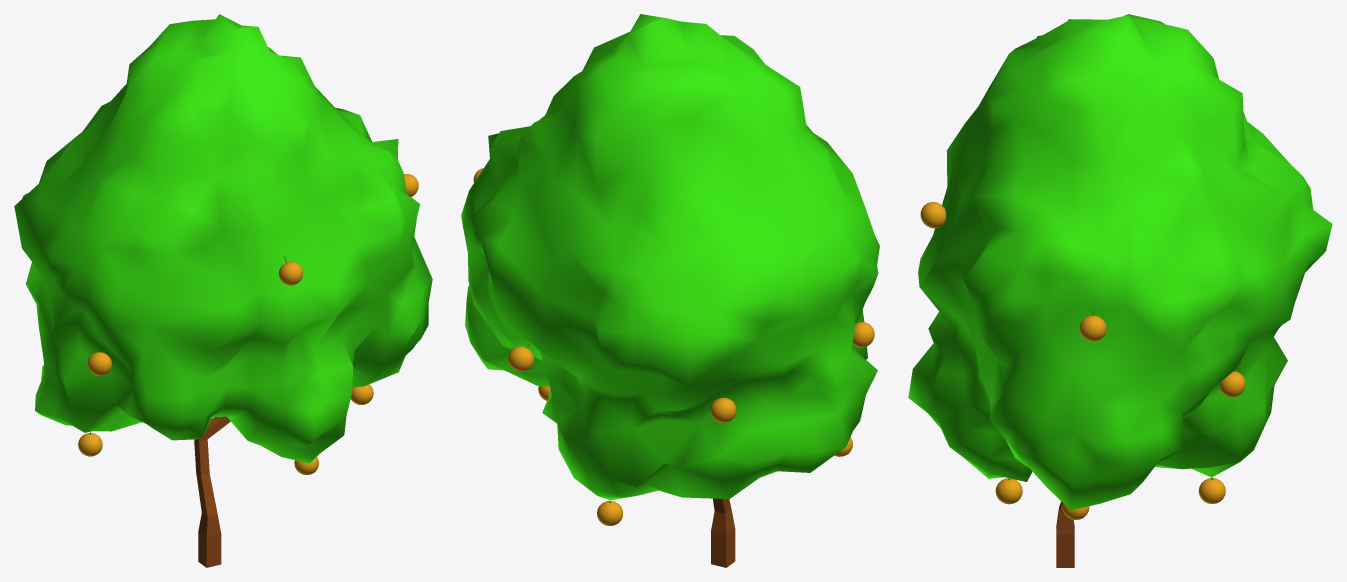
File: SM_OrangeTree_002.fbx
3 views of the same model, side by side, from view 1: azimuth 30°, elevation 25°; view 2: azimuth 150°, elevation 25°; view 3: azimuth 270°, elevation 25° (orthographic). The views are drawn at different scales.
Visible parts, largest first — view 1: OrangeTree_02; view 2: OrangeTree_02; view 3: OrangeTree_02.
Boxes of the visible parts, left/top/right/bottom form: OrangeTree_02: left=14, top=14, right=432, bottom=567; OrangeTree_02: left=461, top=14, right=879, bottom=567; OrangeTree_02: left=908, top=14, right=1332, bottom=567.
Size of the model in its own units: 291 by 391 by 264.
